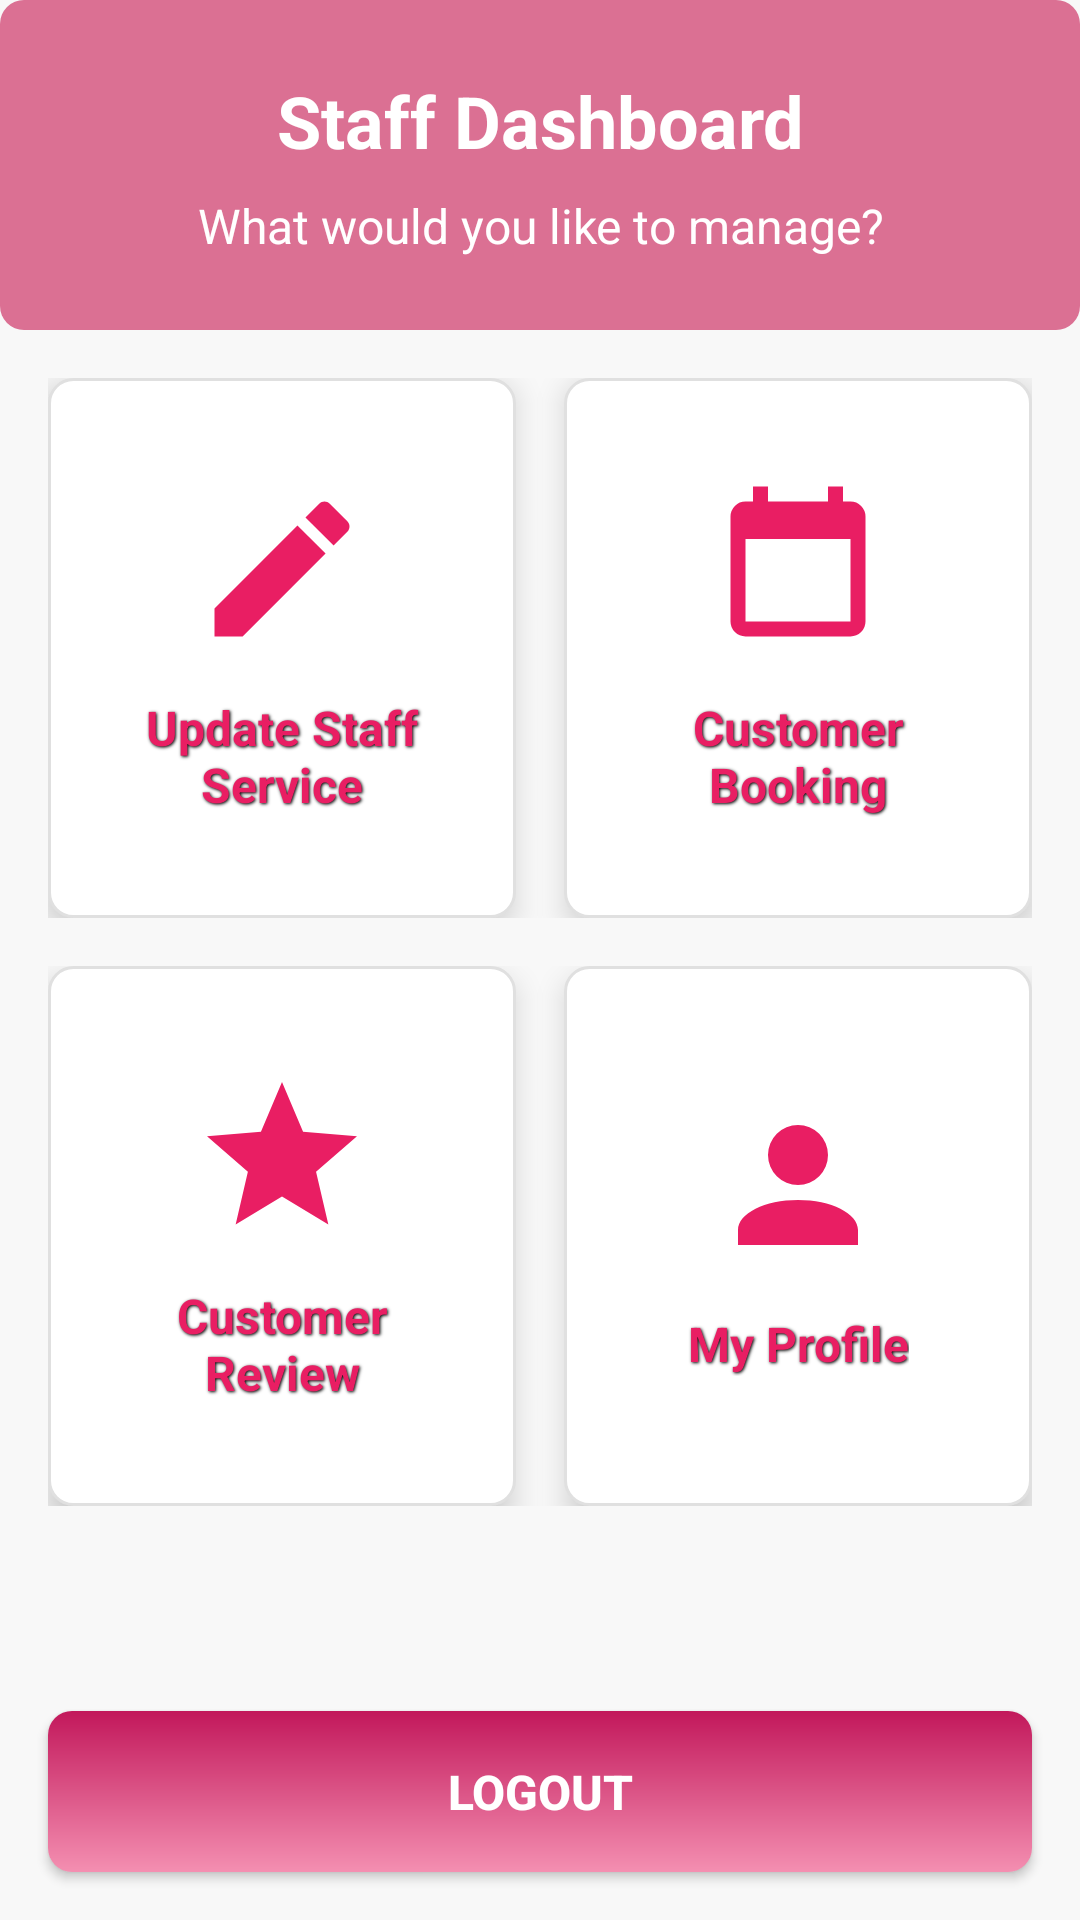

Icons on this 1080x1920 Android screen, each with the point to tap as [x,y]:
edit: [282,569]
